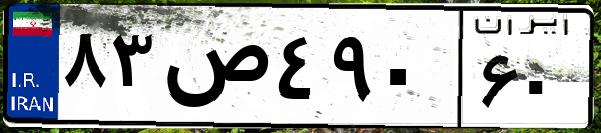0: (385, 28, 445, 110), (525, 38, 570, 115)
3: (110, 28, 158, 98)
4: (270, 28, 330, 110)
6: (475, 38, 525, 113)
8: (57, 26, 110, 100)
9: (330, 28, 385, 110)
ص: (158, 20, 270, 120)
